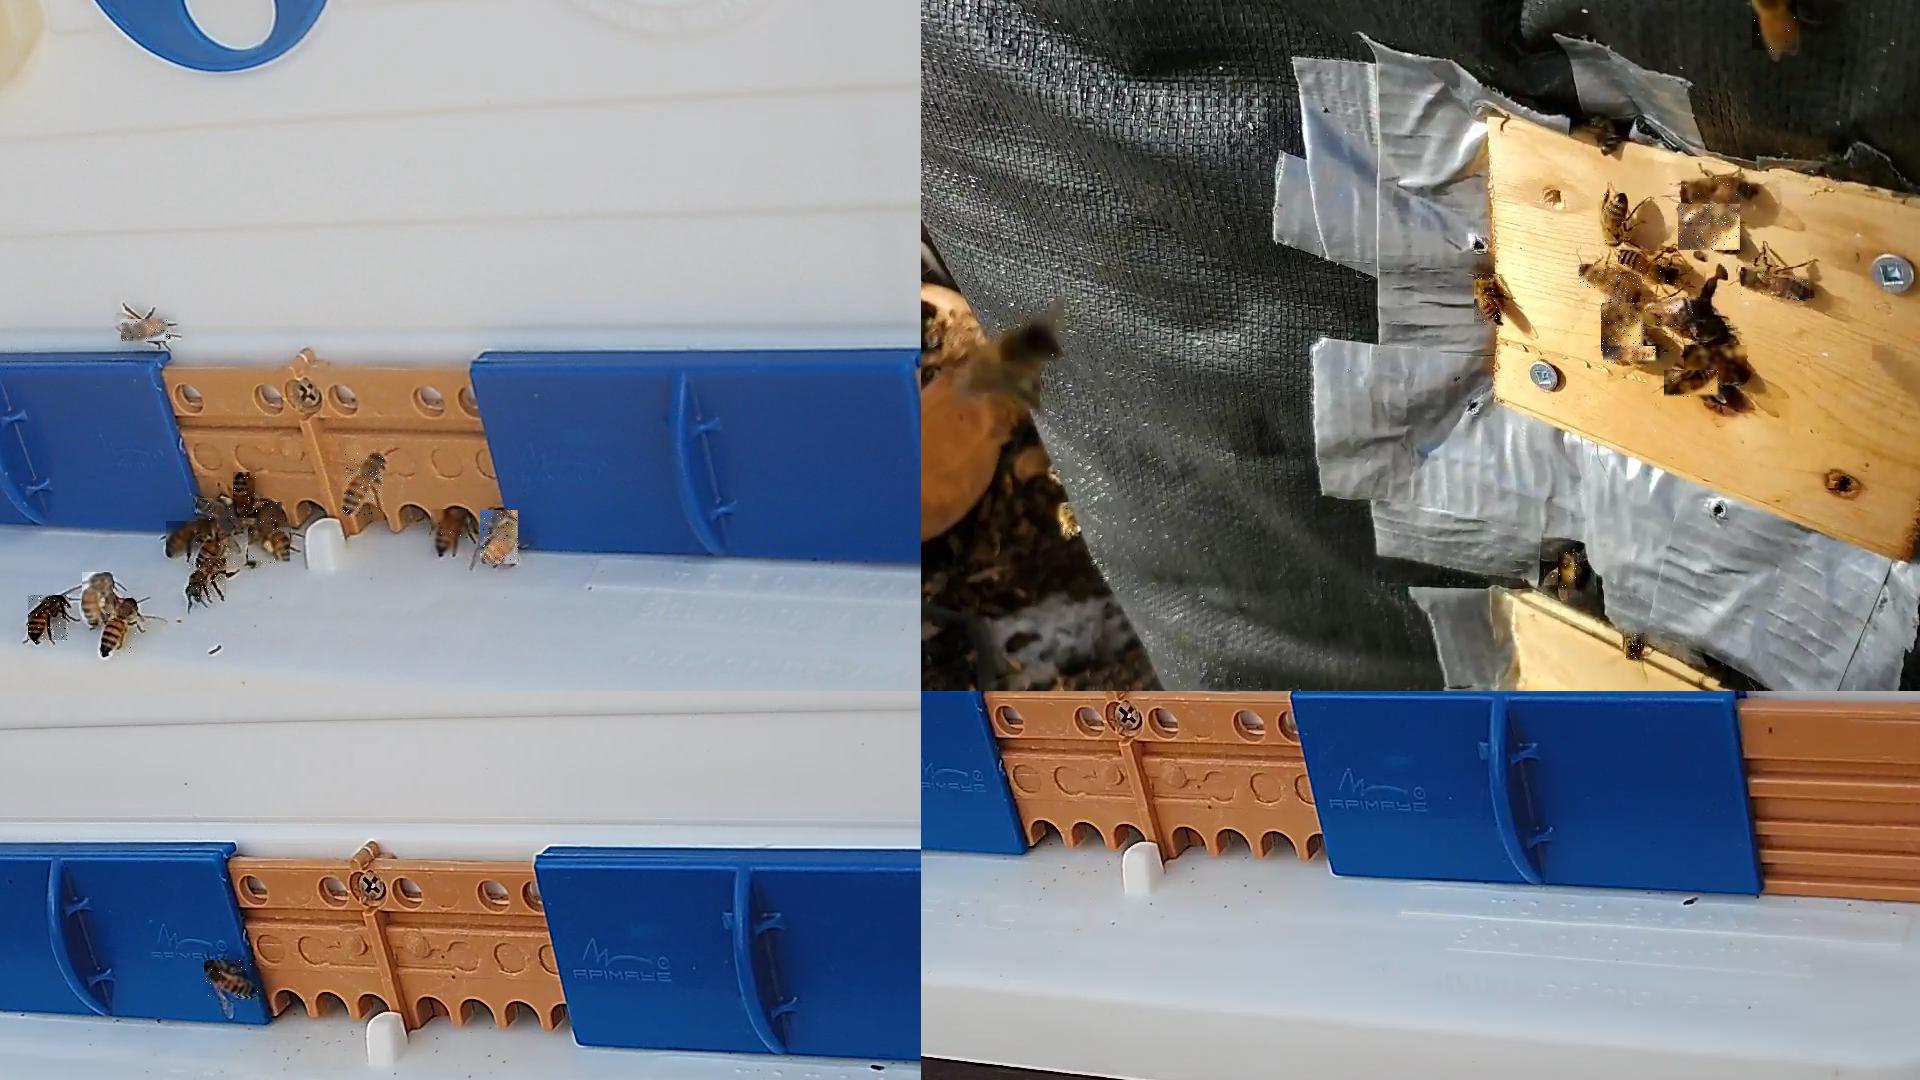bee: (1679, 204, 1742, 251), (343, 454, 384, 516), (1578, 265, 1643, 303), (1684, 345, 1749, 384), (1742, 266, 1813, 301), (1753, 0, 1799, 51), (1602, 303, 1647, 352), (102, 599, 138, 657), (480, 510, 520, 564), (204, 961, 260, 1000), (1619, 251, 1679, 285), (1681, 178, 1758, 204), (29, 596, 70, 644), (1640, 297, 1702, 327), (166, 522, 219, 556), (431, 510, 469, 556), (82, 572, 115, 624), (1664, 371, 1722, 400), (1474, 274, 1507, 324), (189, 559, 227, 600), (194, 531, 236, 567), (1602, 193, 1629, 247), (233, 472, 258, 520), (121, 319, 171, 342), (1604, 347, 1660, 365), (1559, 553, 1580, 593), (257, 502, 284, 534), (1059, 501, 1080, 537), (1627, 633, 1648, 662)
pollenbee: (248, 527, 291, 566), (196, 498, 237, 524)
